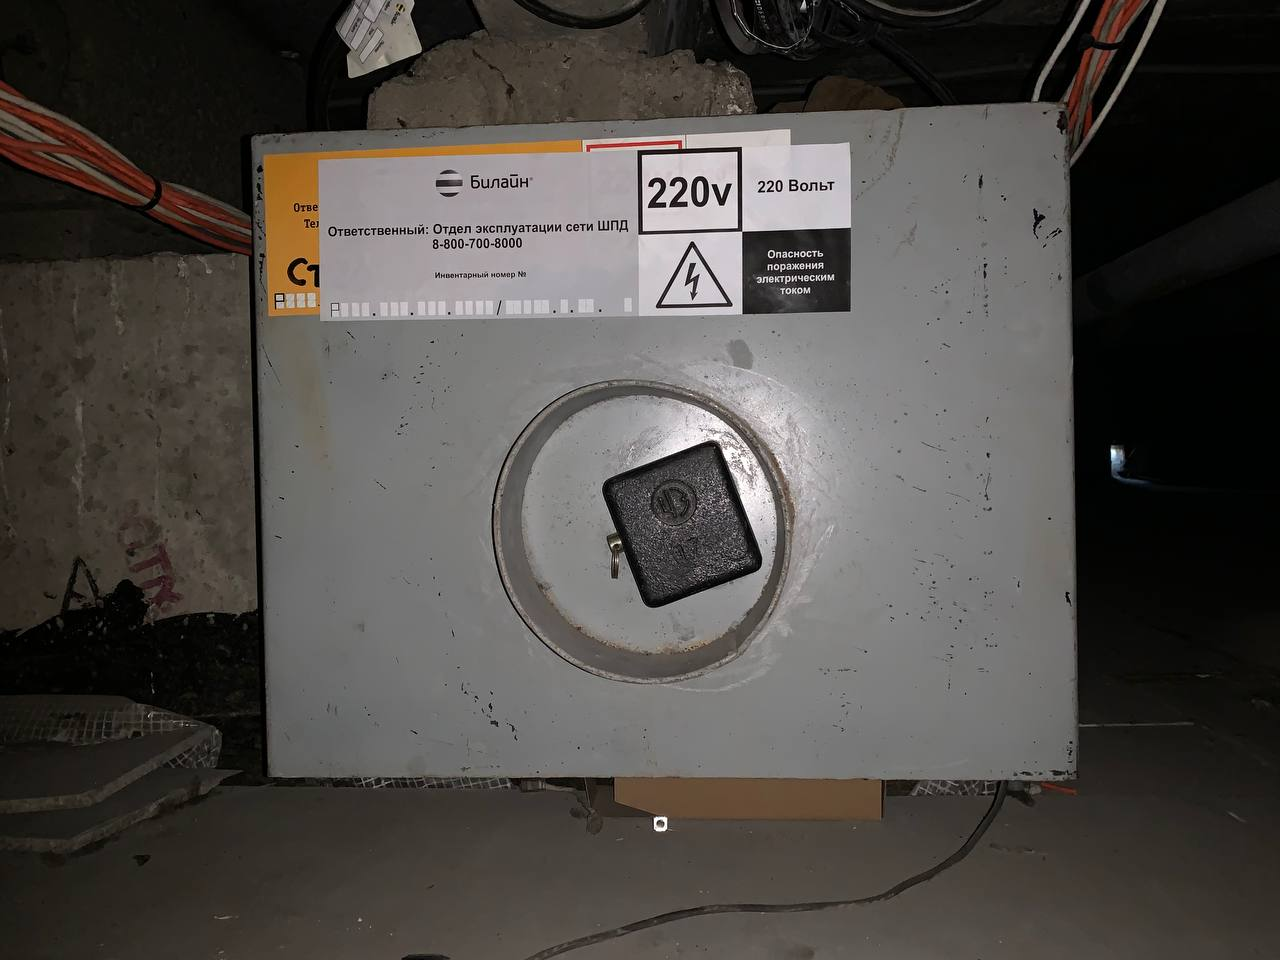shta-3: (247, 100, 1078, 785)
